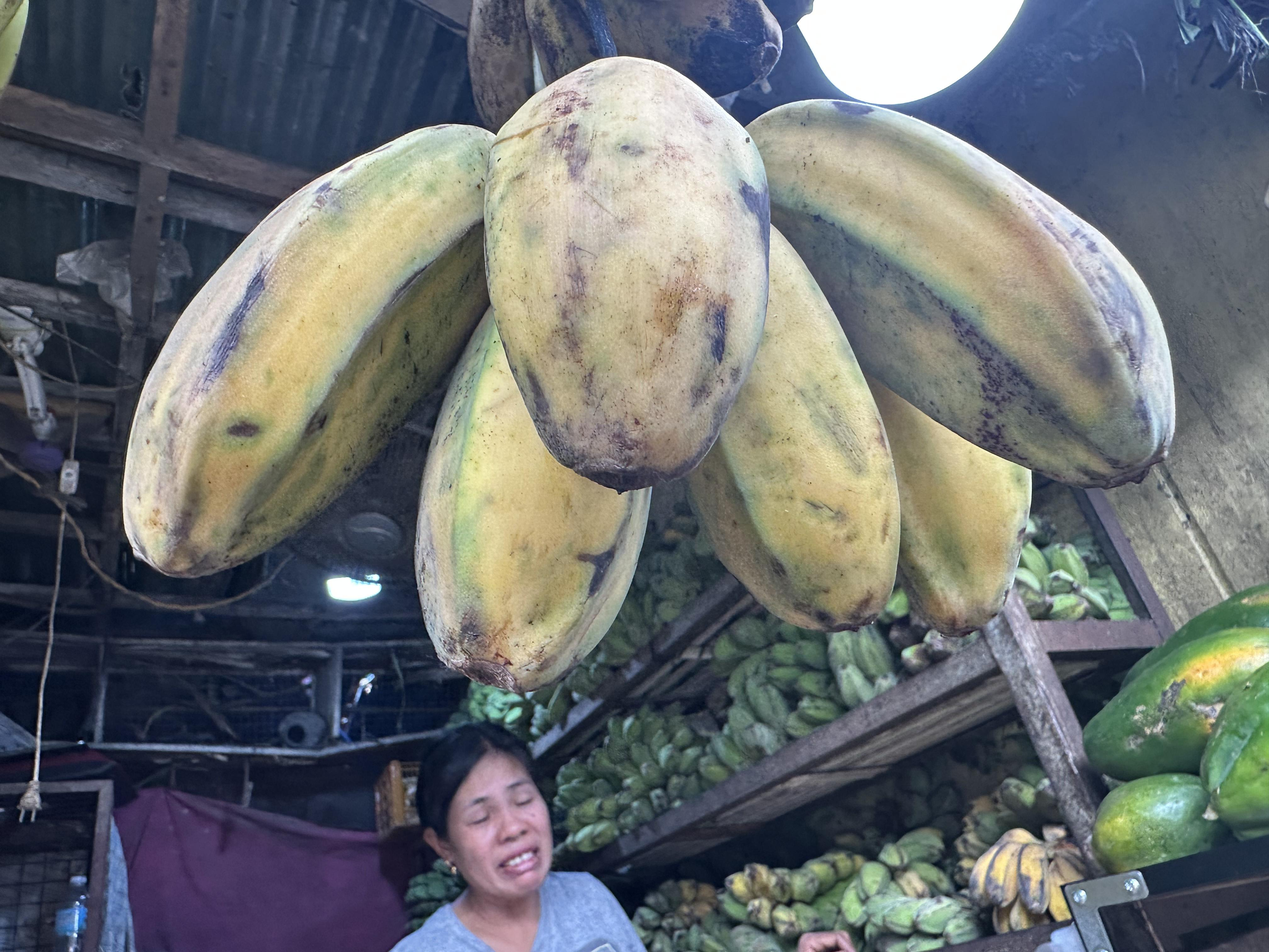ripe: (467, 0, 783, 131)
underripe: (124, 58, 1174, 692)
